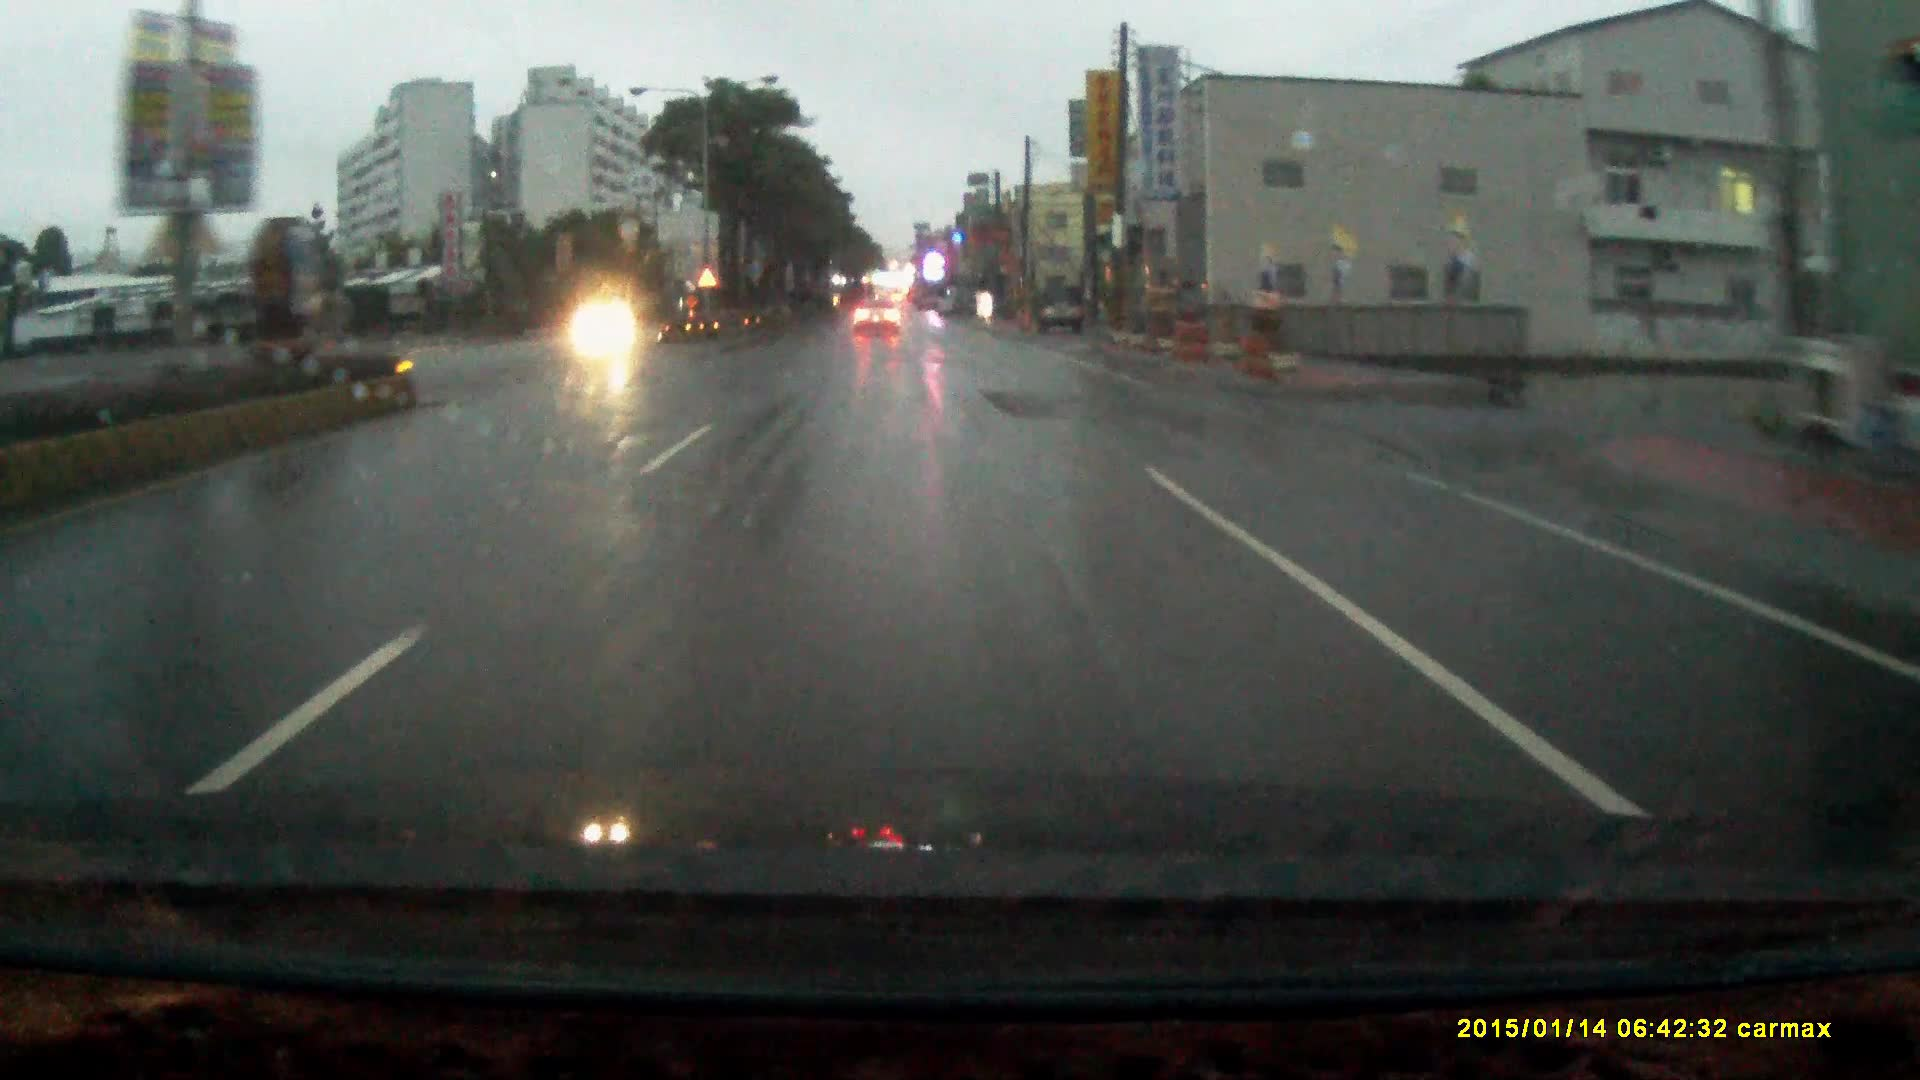vehicle: (1039, 287, 1087, 339), (849, 301, 899, 338)
